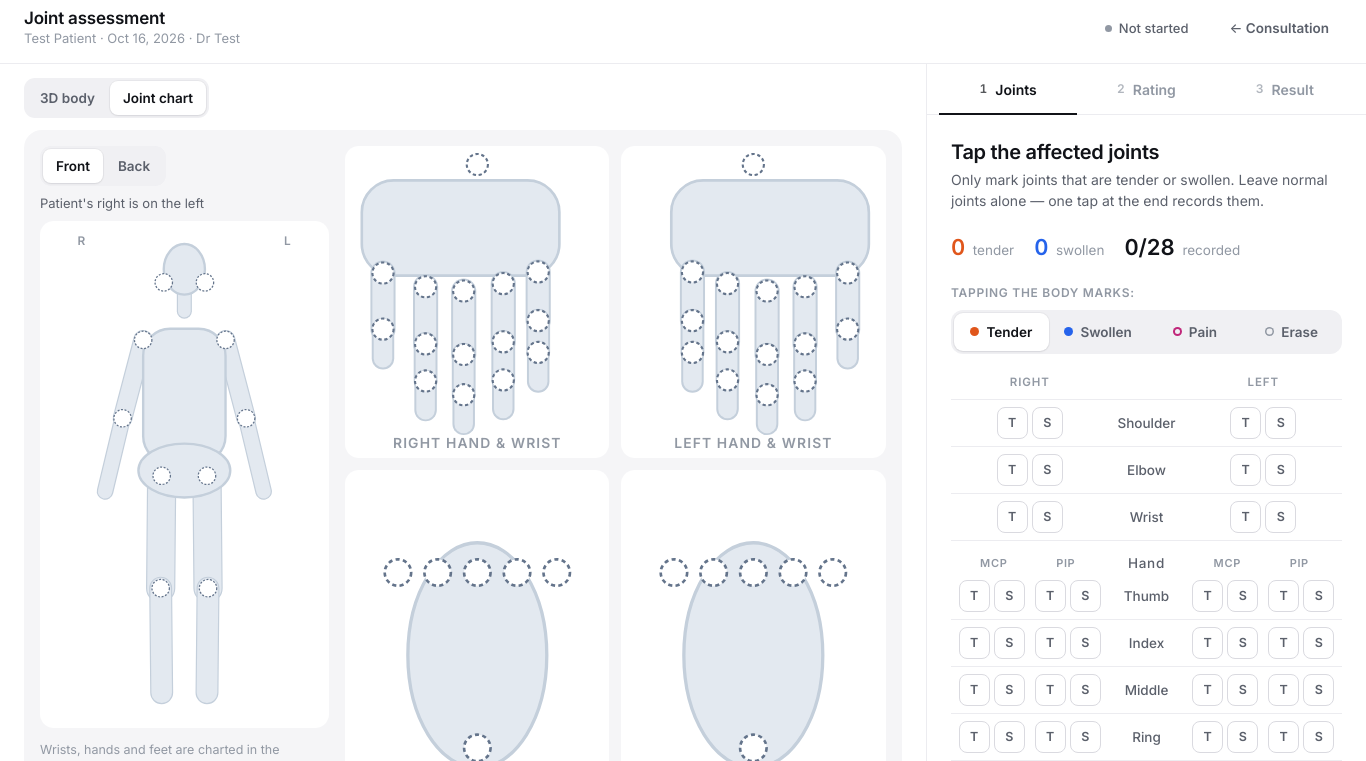
Test case: quick joint examination: tap only the affected joints › a typical exam is a few taps plus one "Done" (all other joints become normal)
Expected: the text with test id "assessment-status" does not show "Loading", 1105,19 -> 1188,38
What coordinates should you click on to do the following:
click the button named "Right wrist tender"
I would click on:
 (1012, 517)
Its box is 997,501 -> 1028,533.
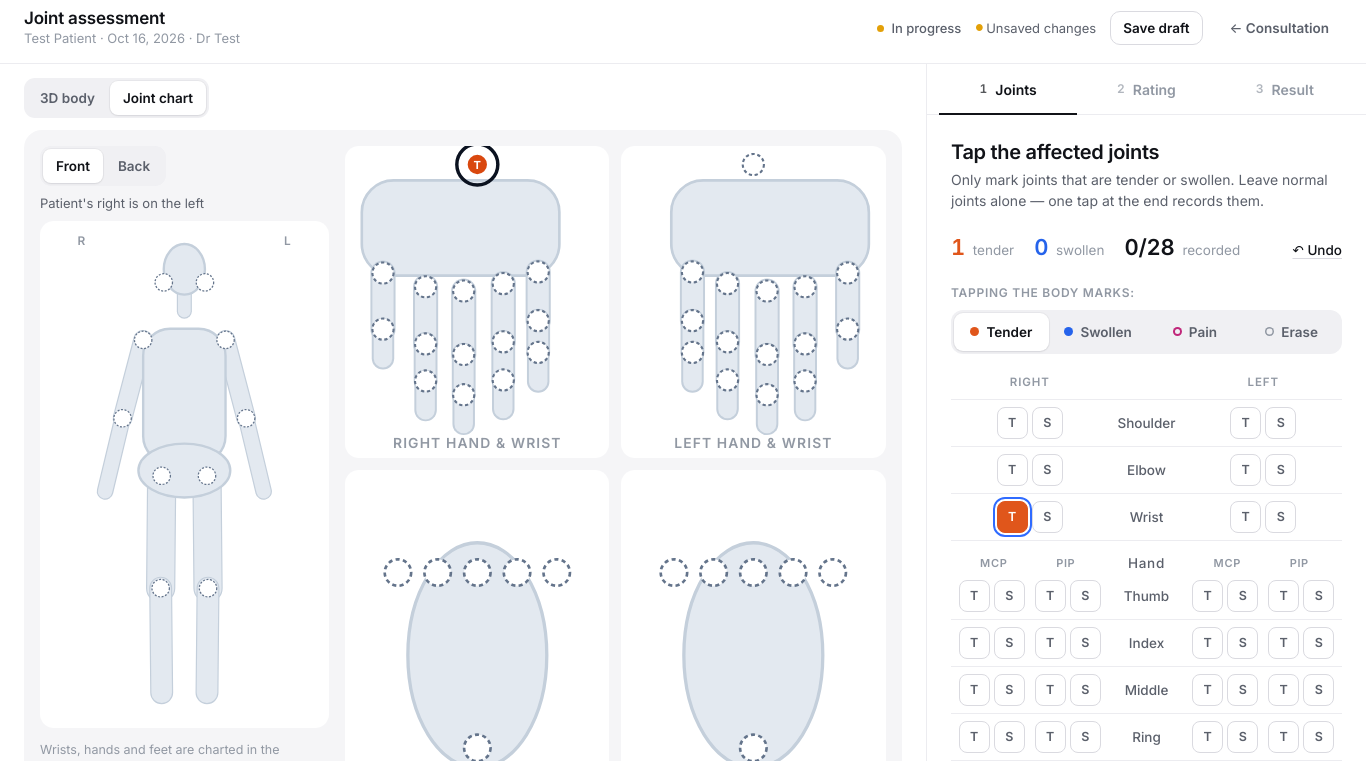
What coordinates should you click on to do the following:
click the button named "Right wrist swollen"
I would click on:
 (1047, 517)
Its box is 1032,501 -> 1063,533.
(page scrolled)
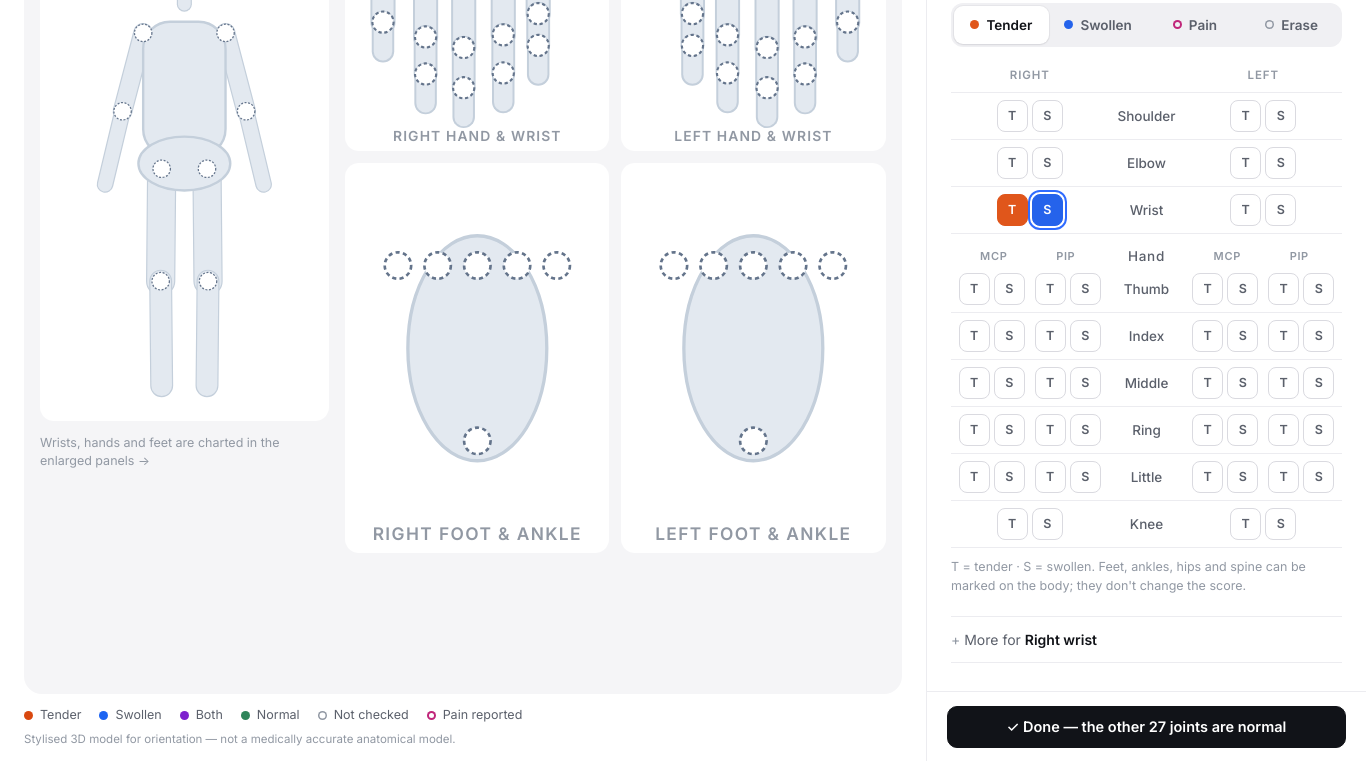
What coordinates should you click on to do the following:
click the button named "Left knee tender"
I would click on:
 (1246, 524)
Its box is 1230,508 -> 1261,540.
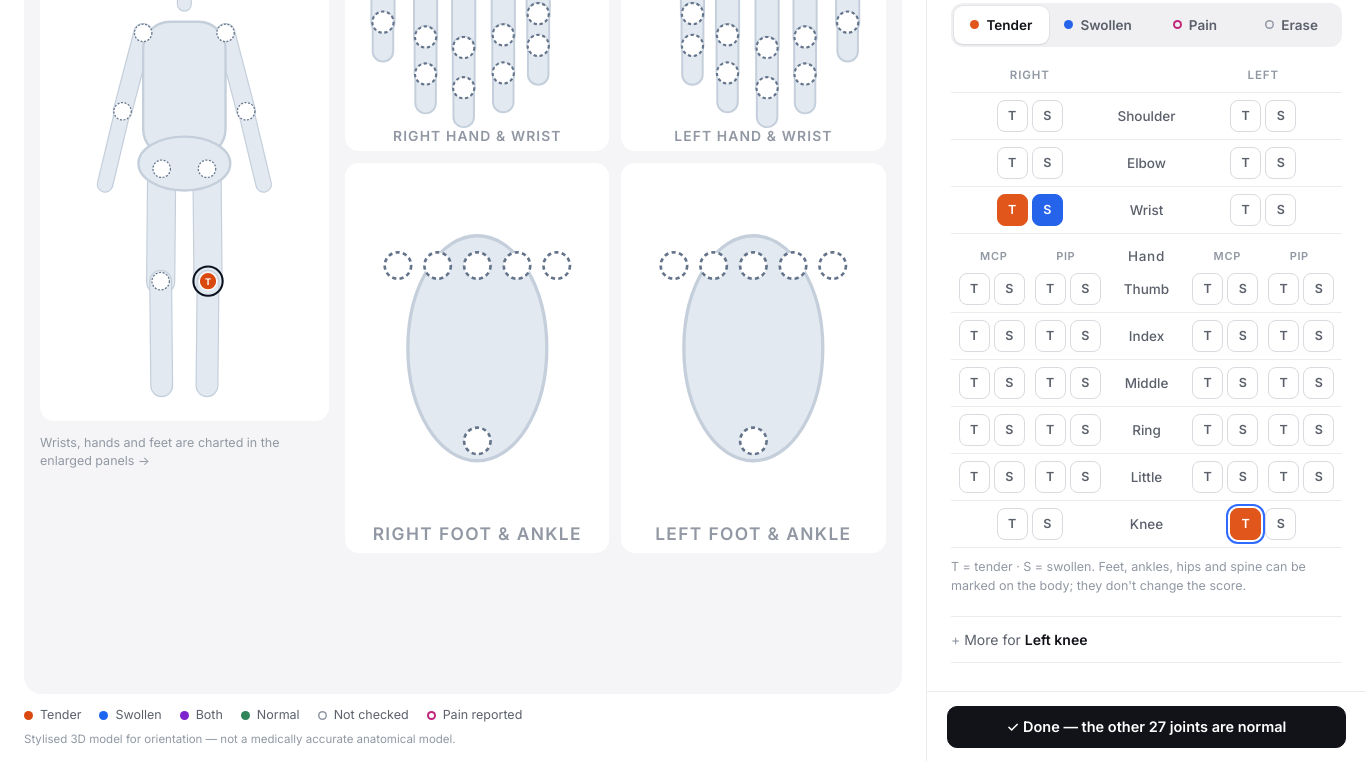
What coordinates should you click on to do the following:
click the button with test id "joints-done"
I would click on:
 (1146, 727)
Its box is 947,706 -> 1346,748.
(page scrolled)
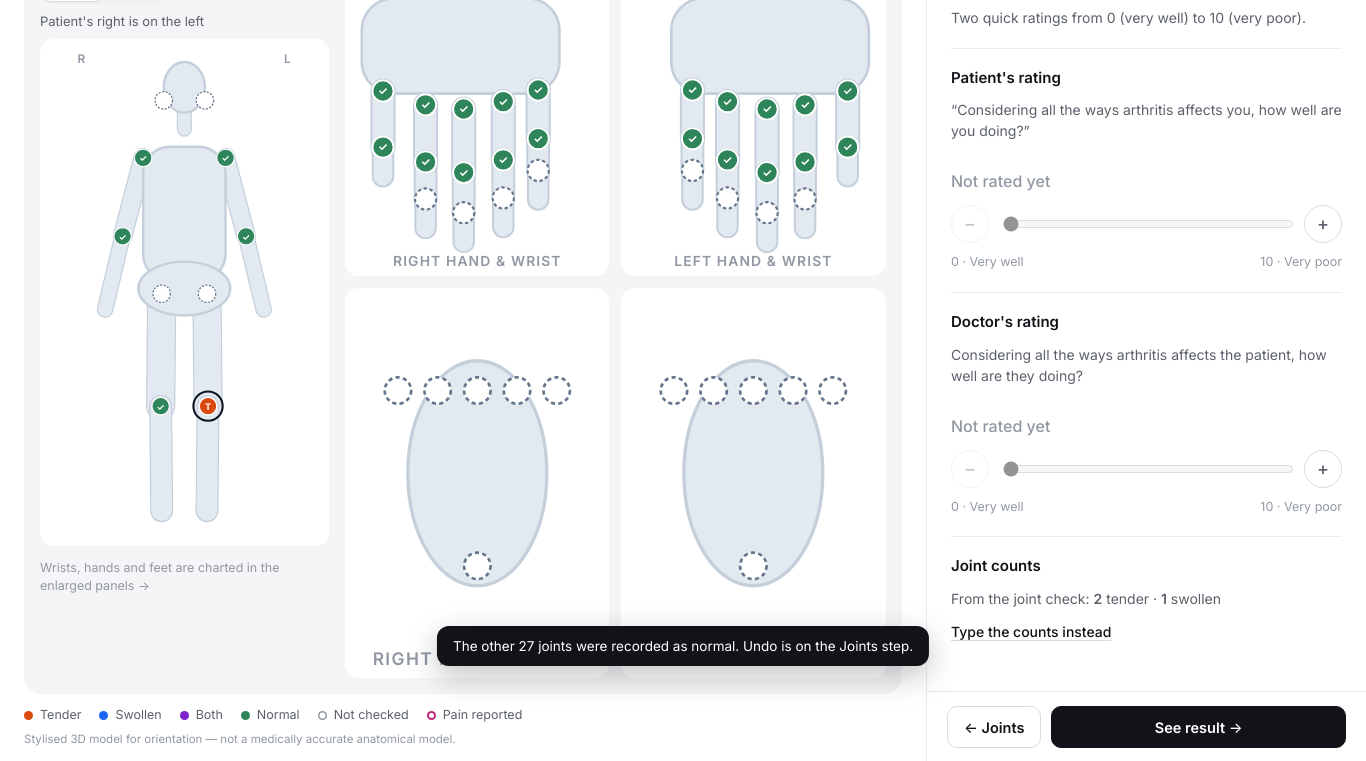
Expected: the text "From the joint check: 2 tender · 1 swollen" is shown, 951,590 -> 1221,607
